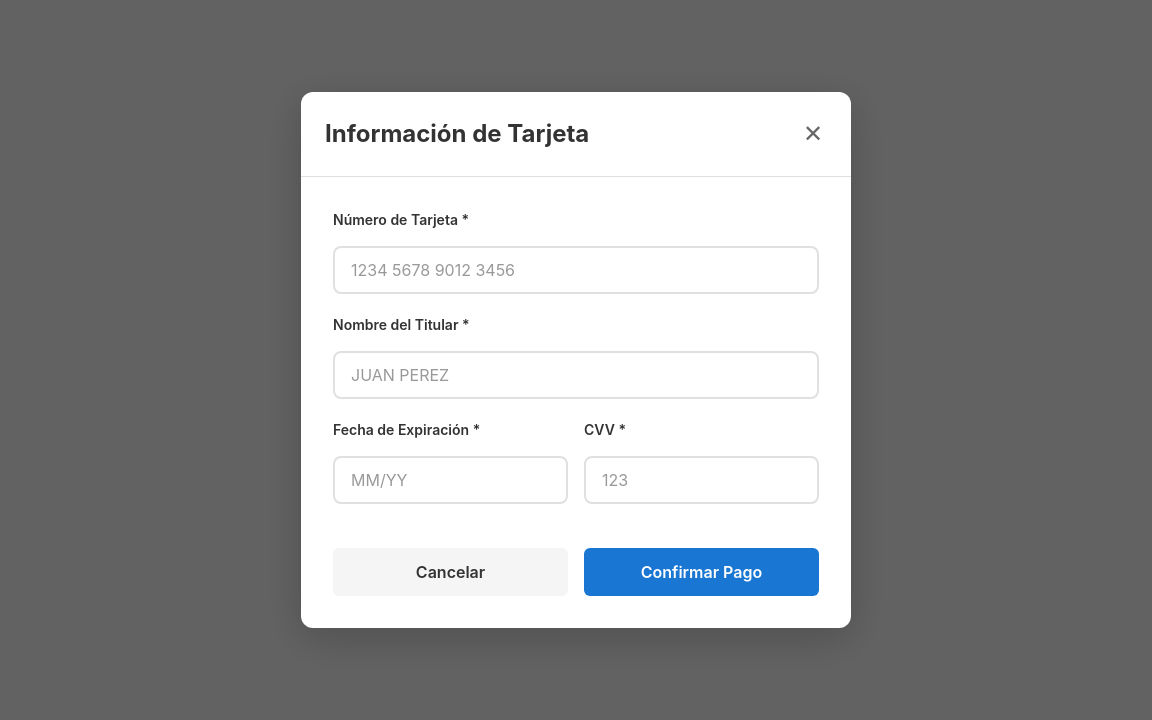
CreditCardModal Component › Validaciones del formulario completo › debe mostrar errores cuando los campos están vacíos
This screenshot has width=1152, height=720.
Click the button "Confirmar Pago". click: (702, 572)
box: [584, 548, 819, 596]
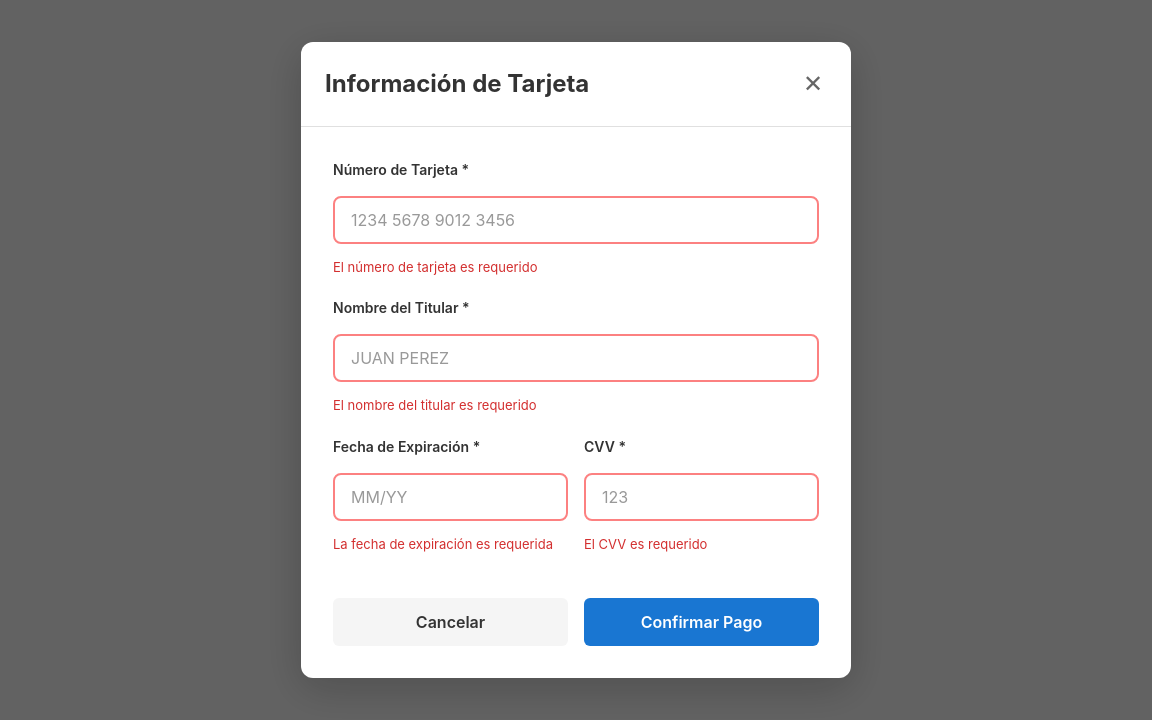
Result: the text "El número de tarjeta es requerido" is shown at [333, 259, 538, 275]
